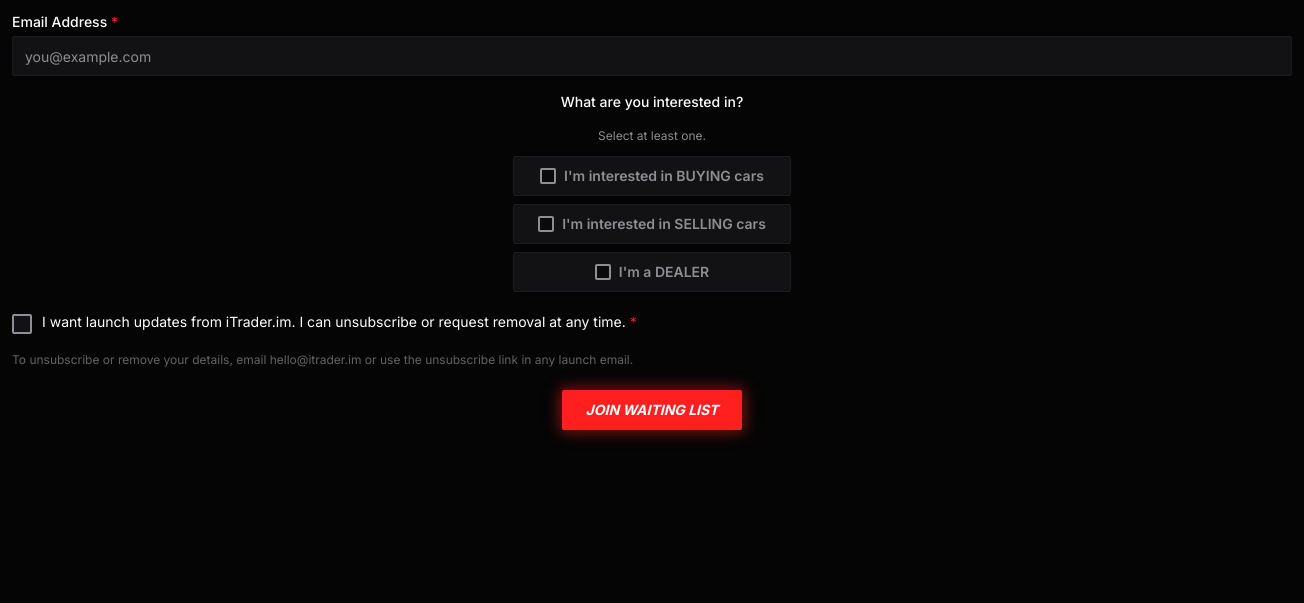
WaitlistForm FE-06 › asks the user to choose an interest when none are selected
The width and height of the screenshot is (1304, 603).
Type "user@gmail.com" into the field labelled "Email Address *" at coordinates (652, 56), box [12, 36, 1292, 76]
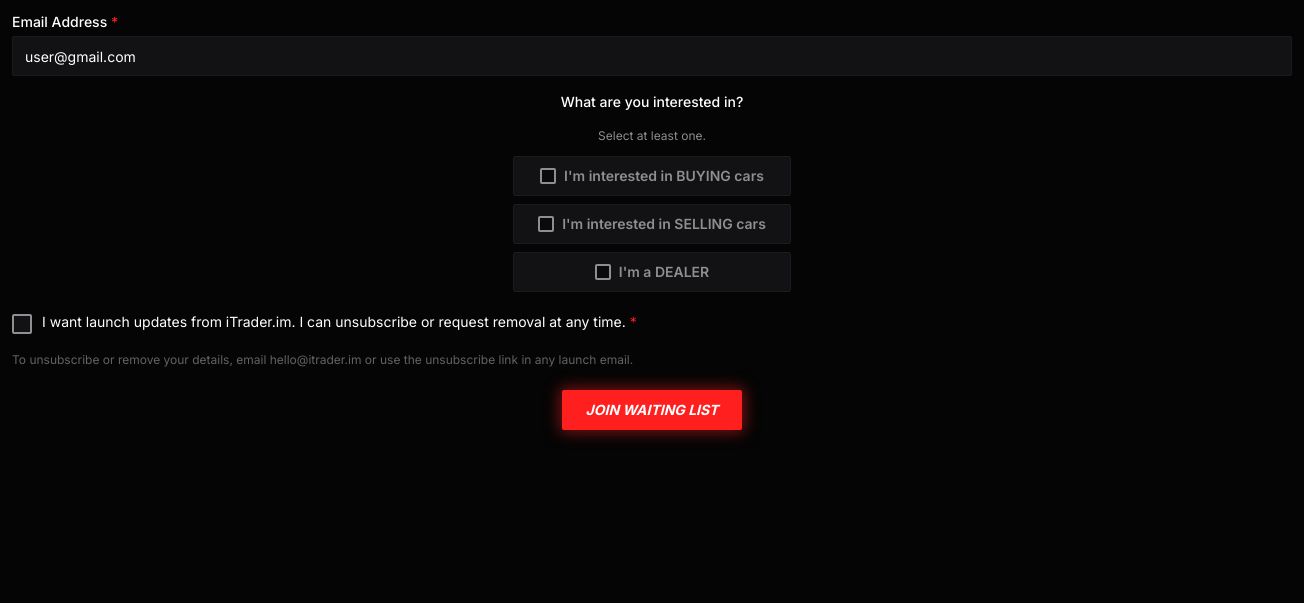
Click the checkbox named "launch updates" at coordinates (22, 324), box [12, 314, 32, 334]
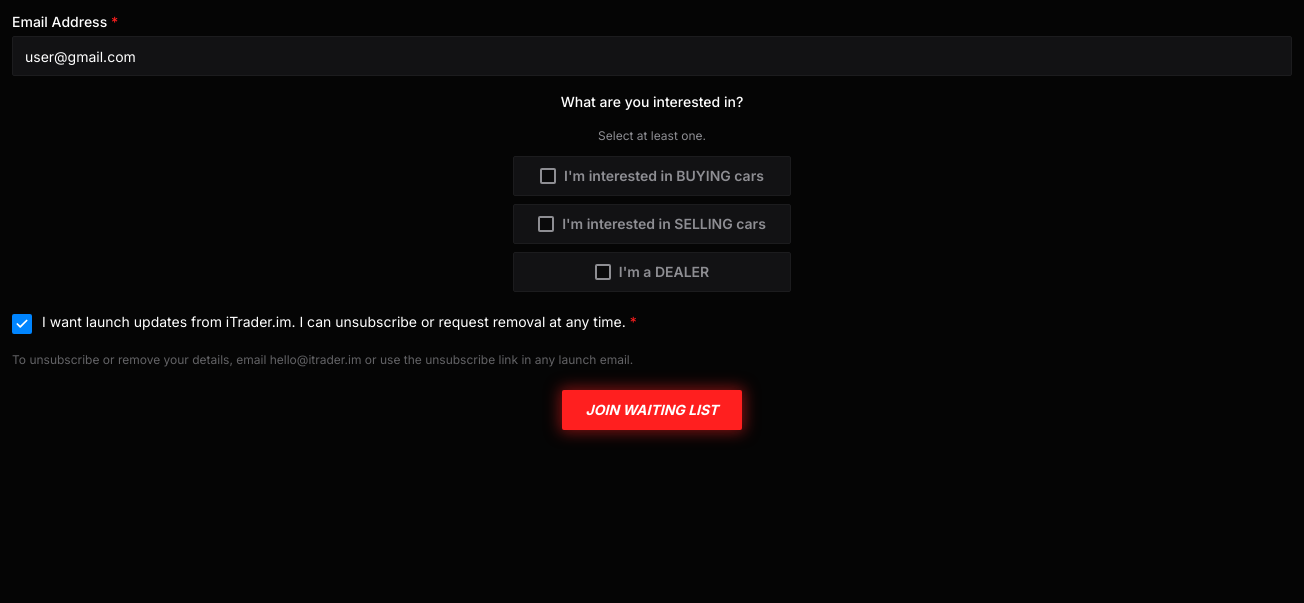
Click the button "Join Waiting List" at coordinates (652, 410), box [562, 390, 742, 430]
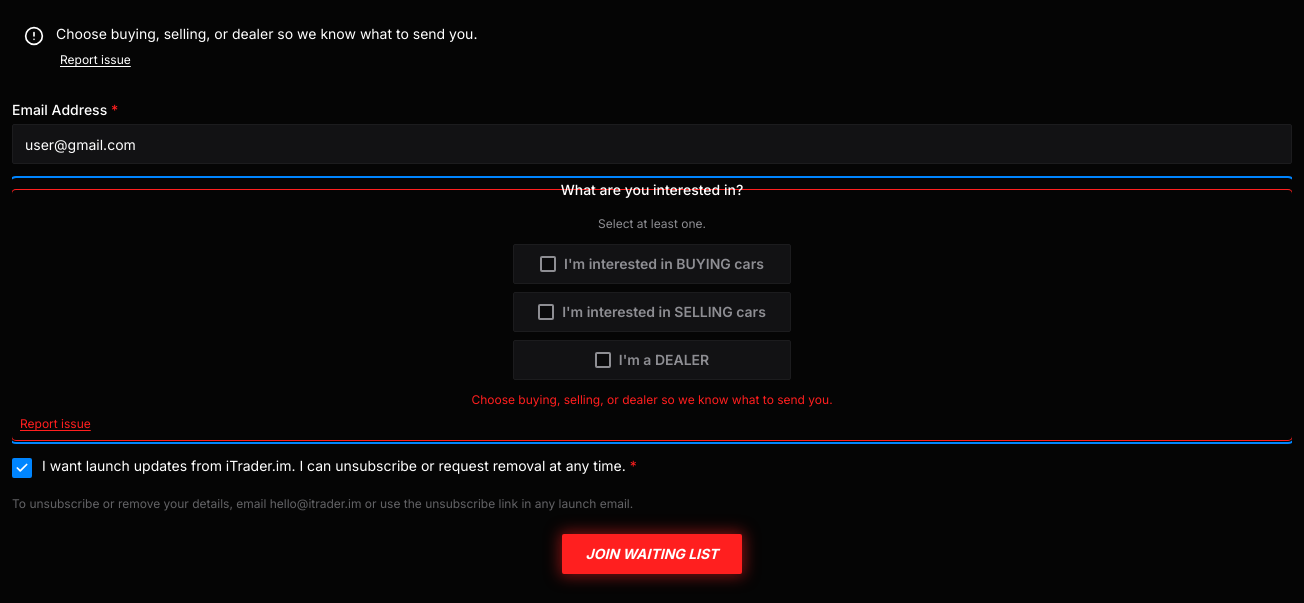
expect the text "Choose buying, selling, or dealer so we know what to send you." is shown: met, box [56, 25, 477, 42]
